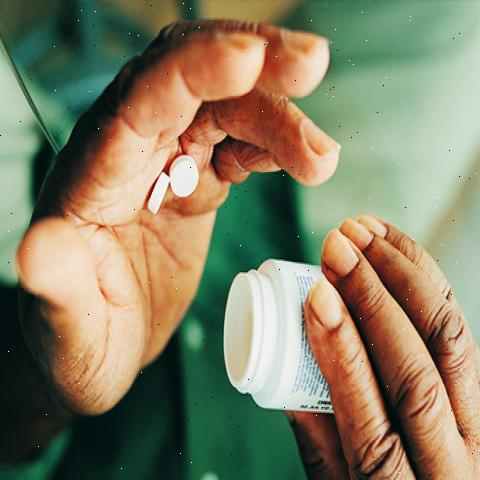Pill: (138, 161, 171, 219), (167, 152, 206, 200)
